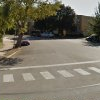crosswalk: (0, 66, 100, 82)
